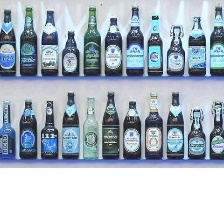bottle: (122, 2, 147, 78), (140, 88, 165, 162), (16, 4, 39, 77), (81, 2, 103, 78), (39, 7, 62, 79), (59, 89, 81, 162), (164, 87, 185, 163), (185, 13, 208, 79), (100, 88, 121, 160), (37, 96, 60, 161), (120, 97, 142, 162), (102, 14, 124, 78), (17, 97, 38, 161), (145, 12, 165, 77), (164, 21, 186, 80), (80, 93, 99, 160), (185, 103, 207, 160), (207, 0, 223, 78), (0, 5, 17, 77), (0, 97, 17, 162), (60, 28, 82, 77), (207, 98, 224, 160)
